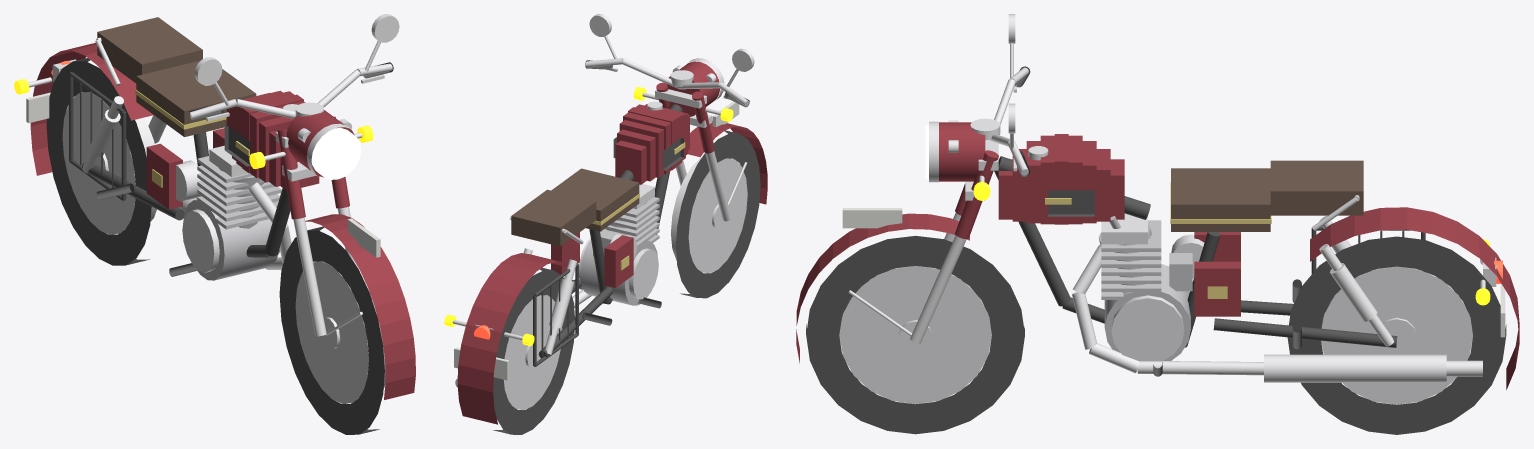
Rendered from moto.glb.
3 renders of one model, left to right at view 1: azimuth 30°, elevation 25°; view 2: azimuth 150°, elevation 25°; view 3: azimuth 270°, elevation 25°, orthographic. The views are drawn at different scales.
Visible parts, largest first — view 1: Indian_Motorcycle; view 2: Indian_Motorcycle; view 3: Indian_Motorcycle.
Part boxes in pixels (x1=…): Indian_Motorcycle: x1=14, y1=14, x2=415, y2=434; Indian_Motorcycle: x1=444, y1=14, x2=767, y2=434; Indian_Motorcycle: x1=796, y1=14, x2=1519, y2=434.
Size of the model in its own units: 0.73 by 1.22 by 2.18.
